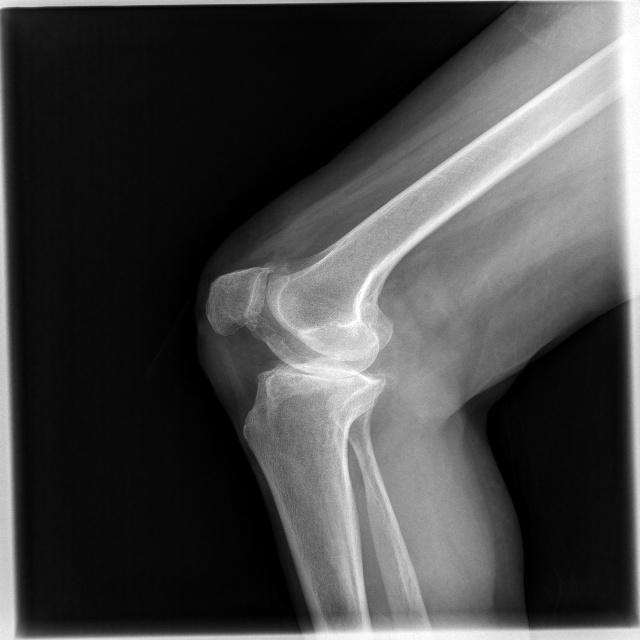Knee: (199, 261, 394, 442)
